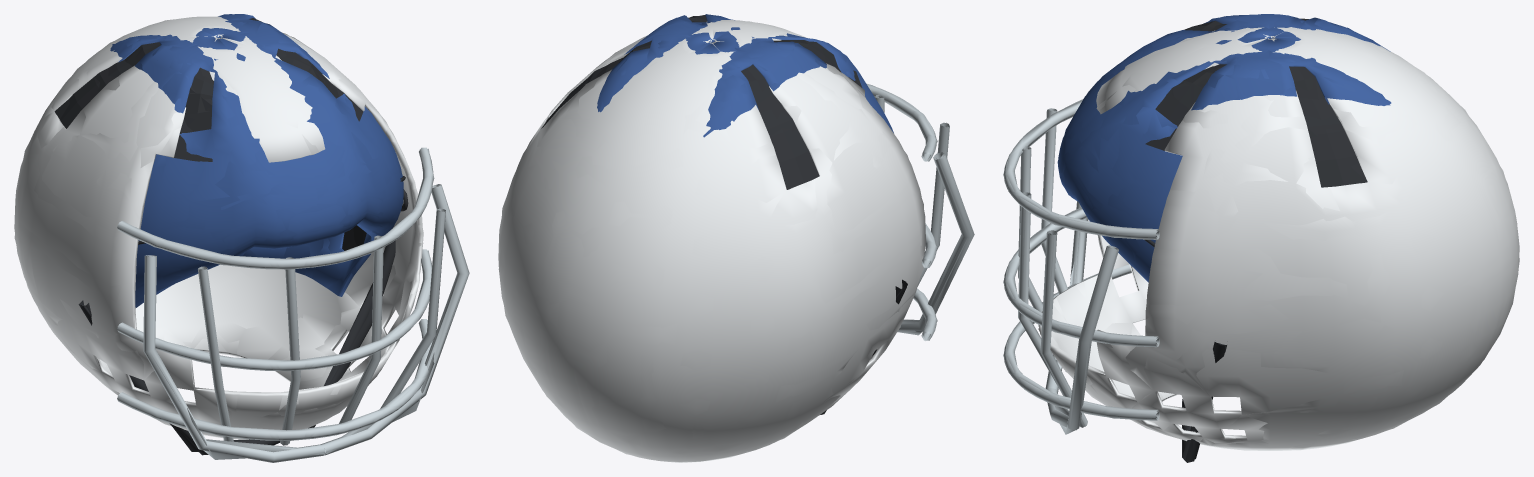
Rendered from headgear.glb.
The picture shows the model from 3 angles, left to right: view 1: azimuth 30°, elevation 25°; view 2: azimuth 150°, elevation 25°; view 3: azimuth 270°, elevation 25°; orthographic projection. The views are drawn at different scales.
Visible parts, largest first — view 1: goalie, skater, broadcast_goalie, broadcast_skater, goalie_cage, goalie_cage.001, goalie_cage.004, goalie_cage.003, goalie_cage.002, broadcast_goalie_cage.004, skater_liner, broadcast_goalie_cage.002 (+16 smaller); view 2: goalie, broadcast_goalie, skater, broadcast_skater, goalie_liner, goalie_cage, skater_liner, goalie_cage.005, broadcast_goalie_liner, broadcast_goalie_cage.004, goalie_cage.004, broadcast_goalie_cage; view 3: goalie, broadcast_goalie, skater, broadcast_skater, goalie_liner, goalie_cage.001, broadcast_goalie_cage.004, goalie_cage.008, goalie_cage.004, goalie_cage.002, skater_liner, broadcast_goalie_cage.003 (+9 smaller).
Boxes of the visible parts, x1,y1,x2,y2 form: goalie: (14, 16, 423, 439); skater: (110, 14, 403, 307); broadcast_goalie: (14, 16, 423, 439); broadcast_skater: (110, 14, 403, 307); goalie_cage: (143, 255, 324, 462); goalie_cage.001: (321, 184, 469, 455); goalie_cage.004: (117, 147, 433, 269); goalie_cage.003: (117, 249, 431, 370); goalie_cage.002: (117, 319, 430, 440); broadcast_goalie_cage.004: (118, 148, 434, 269); skater_liner: (124, 18, 362, 250); broadcast_goalie_cage.002: (117, 321, 432, 440); goalie: (498, 20, 925, 462); broadcast_goalie: (498, 21, 923, 462); skater: (597, 14, 893, 132); broadcast_skater: (597, 14, 893, 137); goalie_liner: (546, 57, 859, 189); goalie_cage: (897, 152, 974, 331); skater_liner: (628, 16, 837, 104); goalie_cage.005: (917, 122, 949, 286); broadcast_goalie_liner: (541, 65, 862, 189); broadcast_goalie_cage.004: (867, 84, 937, 161); goalie_cage.004: (866, 83, 936, 161); broadcast_goalie_cage: (897, 153, 968, 335); goalie: (1038, 27, 1519, 450); broadcast_goalie: (1038, 27, 1519, 450); skater: (1058, 14, 1390, 281); broadcast_skater: (1057, 14, 1391, 282); goalie_liner: (1145, 98, 1358, 187); goalie_cage.001: (1047, 245, 1118, 430); broadcast_goalie_cage.004: (1003, 100, 1158, 239); goalie_cage.008: (1040, 230, 1087, 427); goalie_cage.004: (1004, 99, 1159, 239); goalie_cage.002: (1004, 264, 1159, 420); skater_liner: (1166, 18, 1325, 119); broadcast_goalie_cage.003: (1003, 208, 1158, 346).
Size of the model in its own units: 0.244 by 0.2772 by 0.3185.
